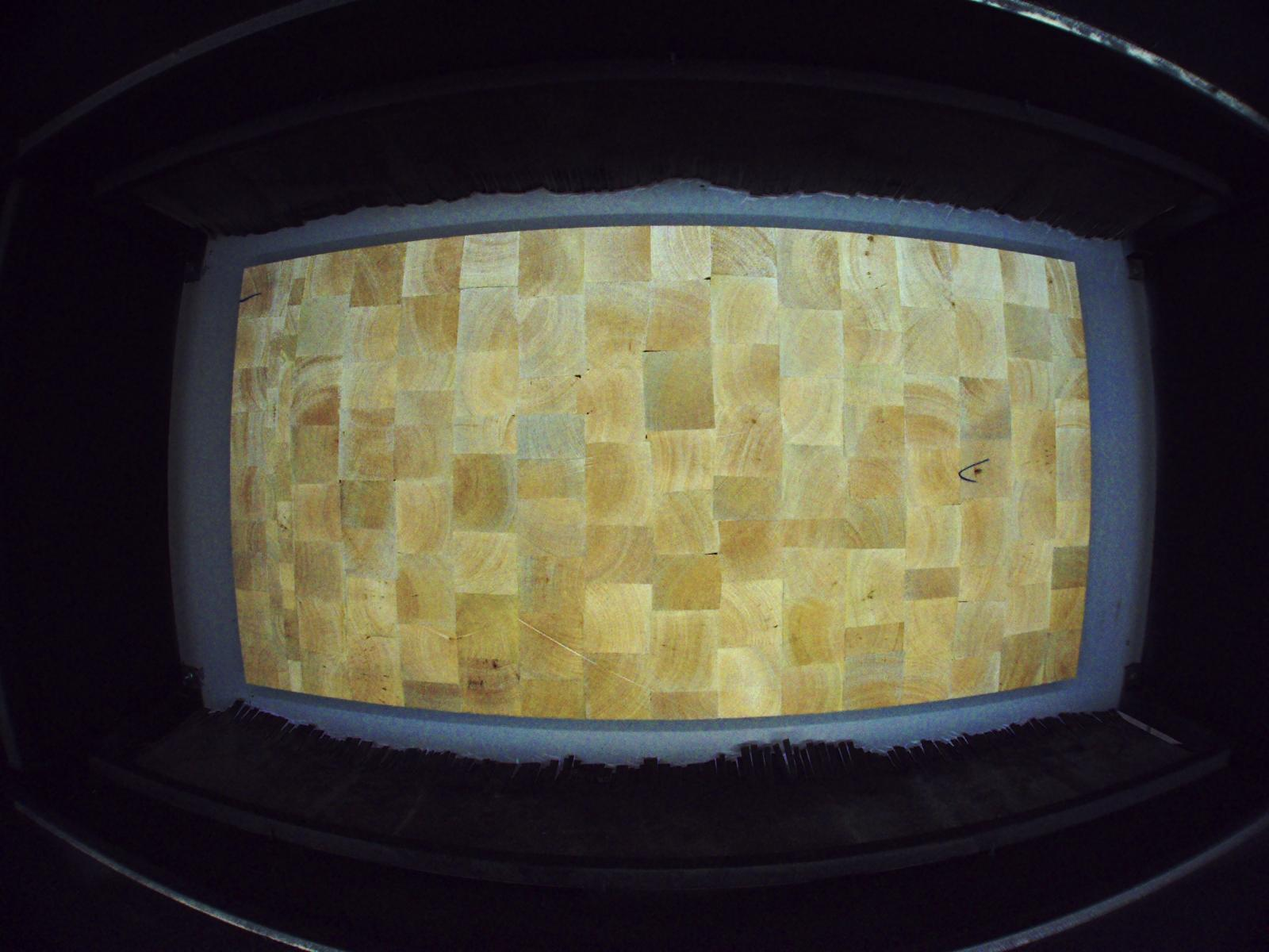sheck_ecuatoriano: (973, 466, 984, 480)
